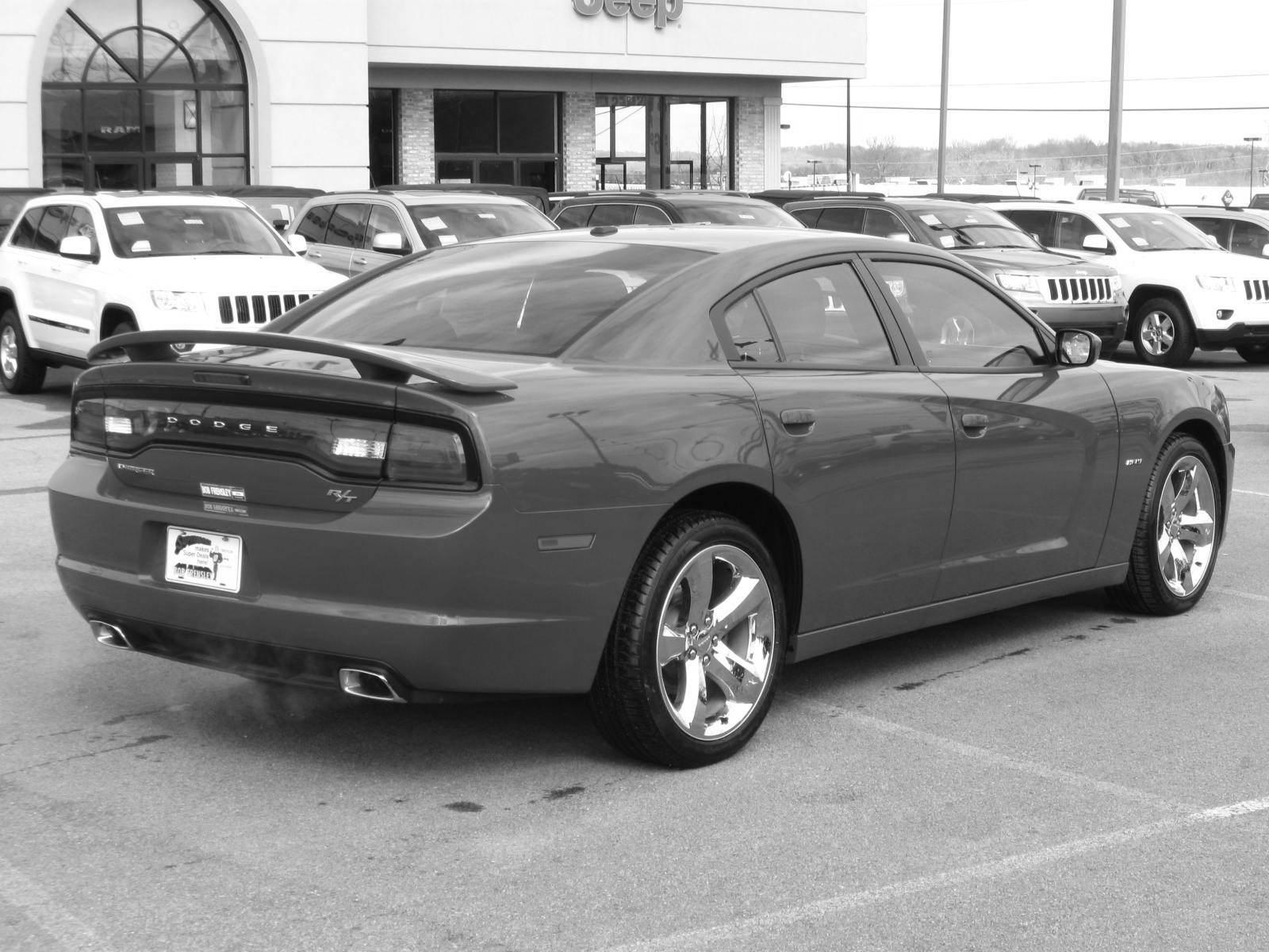car: (46, 222, 1238, 777)
